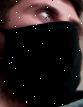with_mask: (1, 1, 83, 107)
